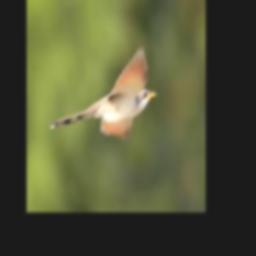Cuckoo: (50, 47, 157, 135)
